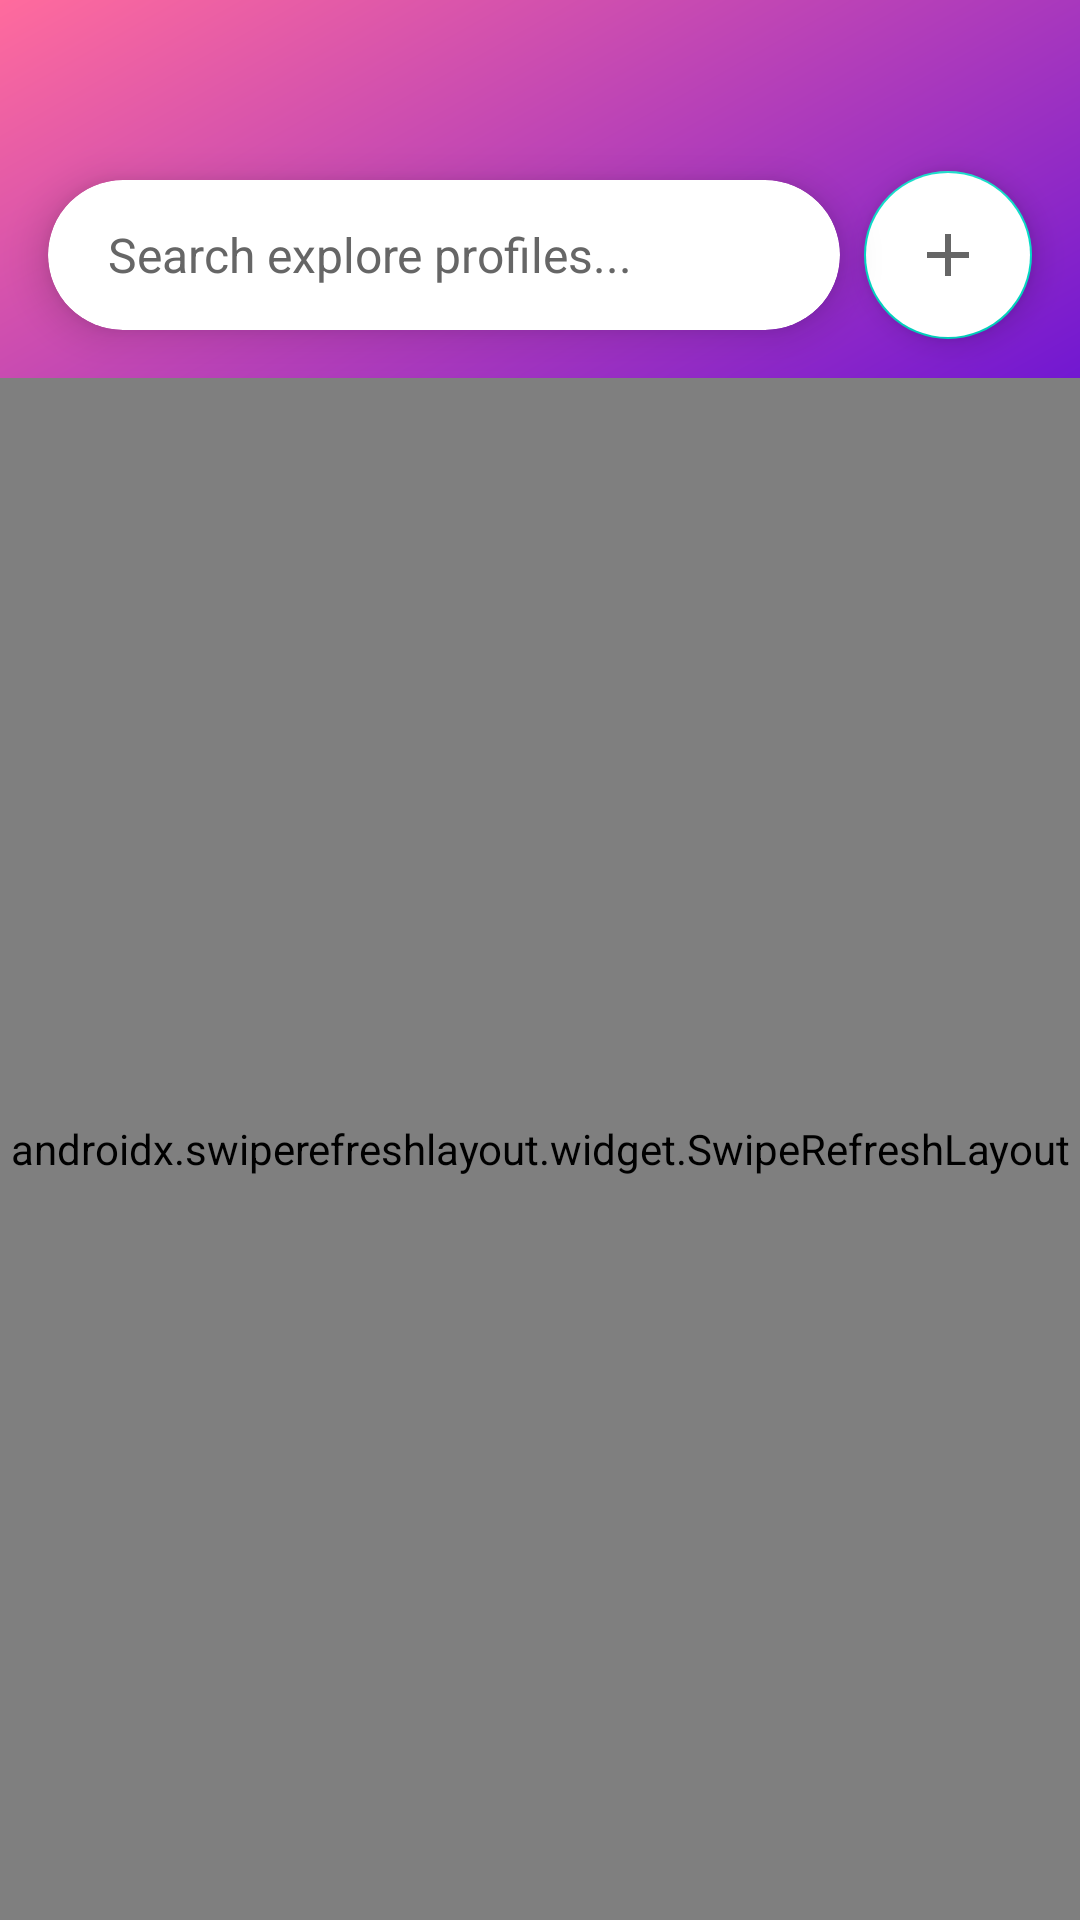

Screen size 1080px x 1920px. Icon name, then its center in pixels as point (x, y):
add: point (948, 255)
